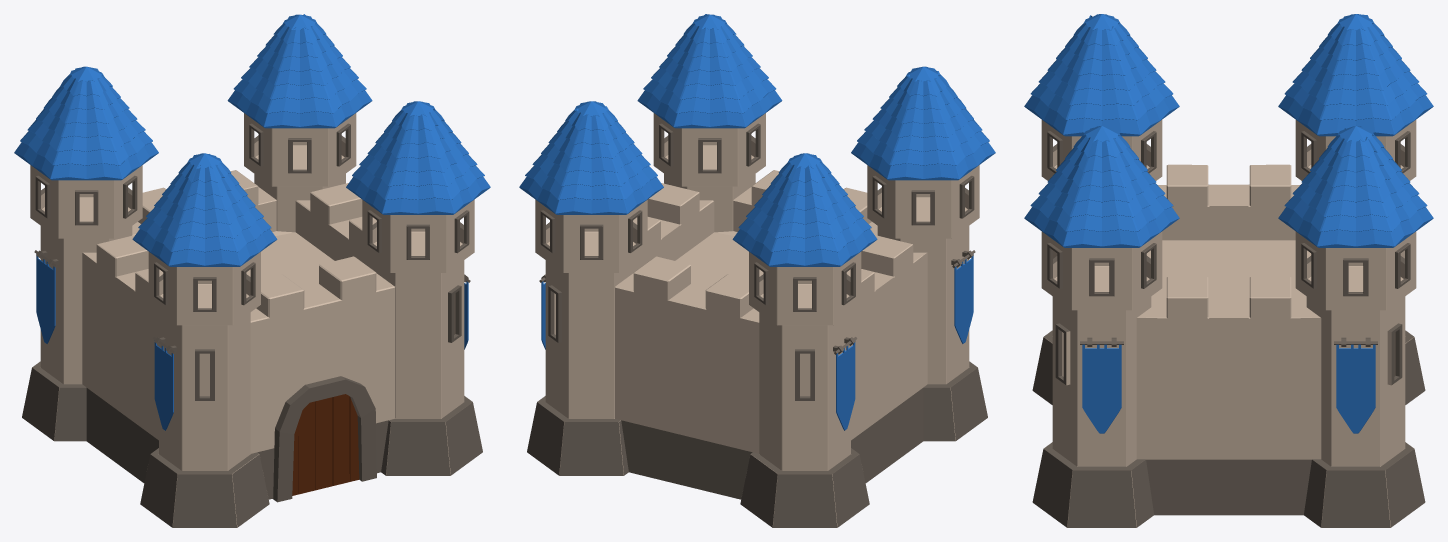
The model's file is Castle.fbx.
3 views of the same model, side by side, from view 1: azimuth 30°, elevation 25°; view 2: azimuth 150°, elevation 25°; view 3: azimuth 270°, elevation 25° (orthographic). The views are drawn at different scales.
Visible parts, largest first — view 1: CASTLE, Cylinder.090, Cylinder.089; view 2: CASTLE; view 3: CASTLE.
Part boxes in pixels (<box>): CASTLE: <box>14,14,490,527</box>; Cylinder.090: <box>292,394,359,495</box>; Cylinder.089: <box>273,376,376,502</box>; CASTLE: <box>519,14,995,527</box>; CASTLE: <box>1024,14,1433,527</box>.
Bounding box in the file's own units: 755 × 787 × 774.
